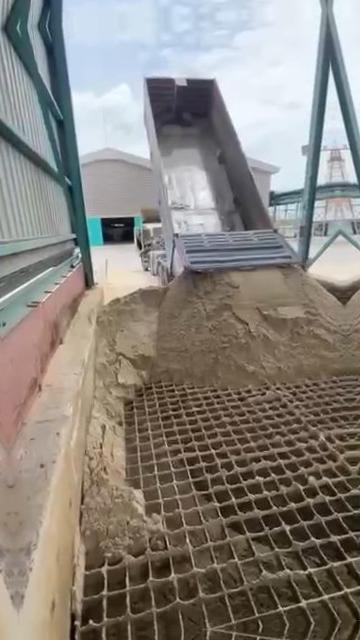sand: (83, 267, 348, 563)
